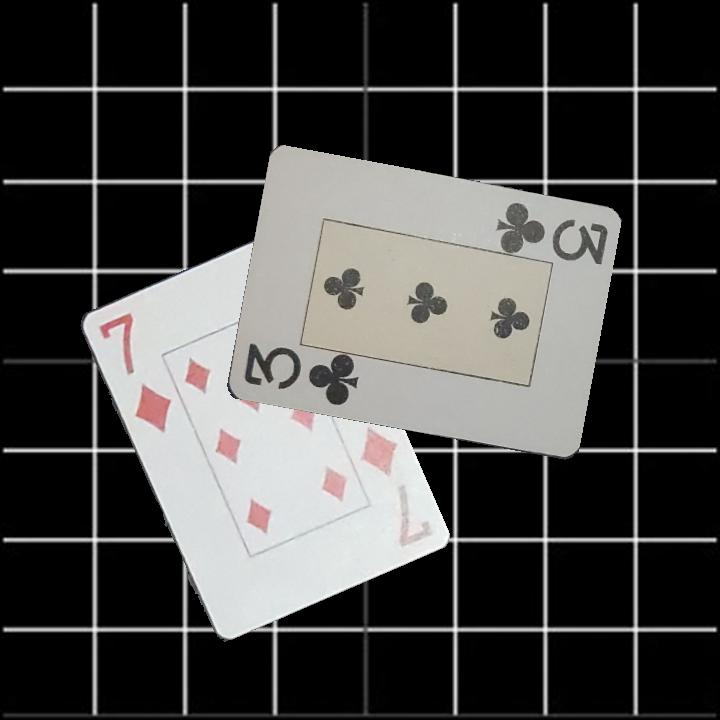3c: (239, 339, 362, 409), (490, 198, 611, 267)
7d: (354, 421, 434, 550), (95, 309, 174, 436)
